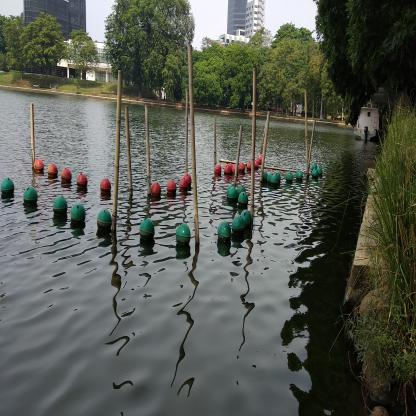green_buoy: (174, 221, 192, 250), (96, 206, 114, 234), (138, 218, 156, 246), (69, 201, 87, 228), (22, 184, 39, 211), (217, 220, 233, 248), (52, 193, 68, 219), (1, 175, 15, 201), (240, 209, 252, 234), (232, 217, 244, 239), (227, 186, 238, 208), (237, 191, 249, 211), (270, 172, 280, 188), (296, 169, 304, 186), (263, 170, 271, 186), (285, 170, 293, 184), (312, 168, 318, 182), (311, 160, 318, 171), (318, 166, 324, 178)
red_buoy: (75, 168, 89, 194), (99, 176, 112, 198), (60, 166, 72, 189), (150, 179, 161, 202), (32, 155, 44, 175), (46, 162, 58, 182), (166, 174, 176, 197), (183, 169, 193, 189), (179, 174, 187, 193), (224, 162, 232, 180), (213, 161, 221, 178), (239, 163, 246, 177), (253, 159, 260, 172), (247, 160, 253, 171)
